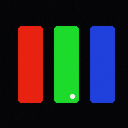0 point: (70, 94, 74, 98)
